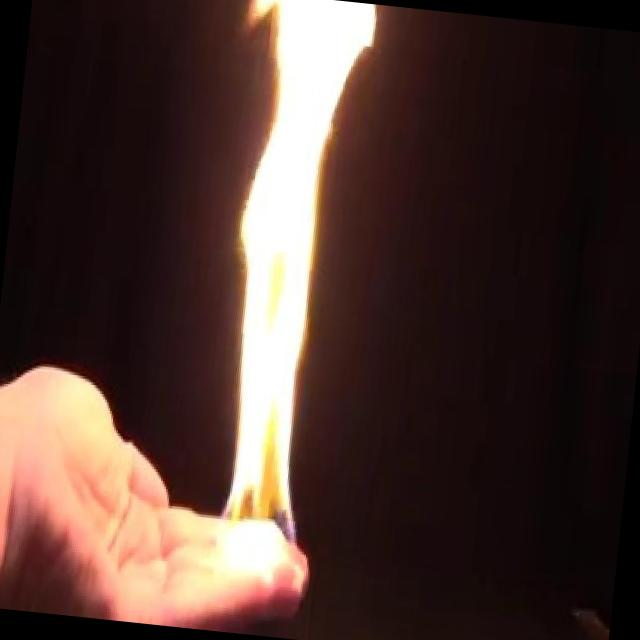Fire: (182, 0, 381, 591)
